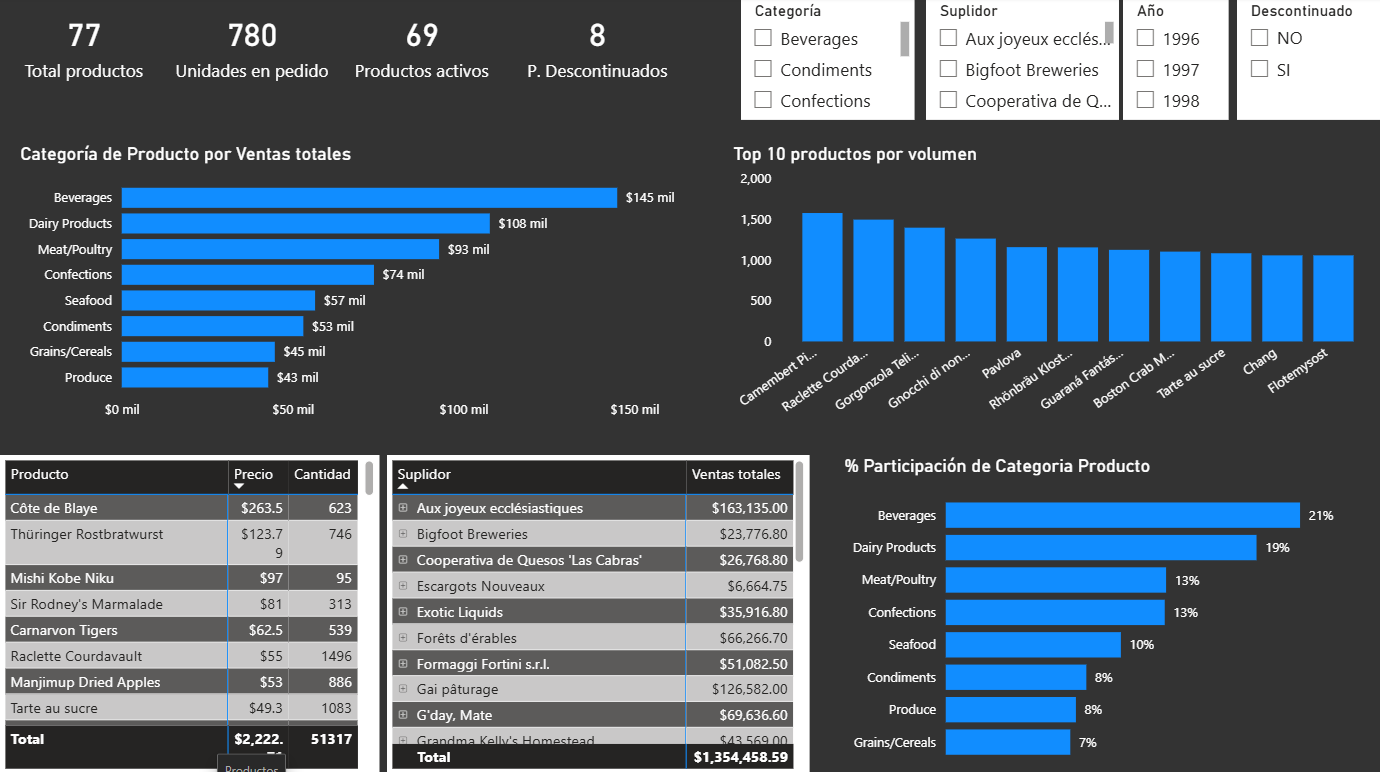

The page's visual inventory and layout, read from the dashboard file:
{"tool":"powerbi","page":{"name":"Productos","canvas":[1280,720],"ordinal":1},"visuals":[{"type":"slicer","fields":{"Values":["DimProduct.CategoriaProducto"]},"box":[687.4,0,161.4,114.3],"z":0},{"type":"card","fields":{"Values":["DimProduct.UnidadesEnPedido1"]},"box":[154.2,0,159.6,88],"z":1000},{"type":"card","fields":{"Values":["DimProduct.Total productos"]},"box":[13.6,0,127.9,88],"z":2000},{"type":"card","fields":{"Values":["DimProduct.ProductosDescontinuados"]},"box":[468.8,0,171.4,88],"z":3000},{"type":"columnChart","title":"Top 10 productos por volumen","fields":{"Category":["DimProduct.Producto"],"Y":["FACTSales.Cantidad total vendida"]},"box":[675.6,135.1,604.8,262.1],"z":4000},{"type":"card","fields":{"Values":["DimProduct.Productos activos"]},"box":[320.1,0,142.4,88],"z":5000},{"type":"clusteredBarChart","title":"Categoría de Producto por Ventas totales","fields":{"Category":["DimProduct.CategoriaProducto"],"Y":["FACTSales.Ventas totales"]},"box":[13.6,135.1,640.5,265.7],"z":6000},{"type":"pivotTable","fields":{"Rows":["DimProduct.Producto"],"Values":["Sum(DimProduct.UnidadPrecio)","Sum(FACTSales.Cantidad)"]},"box":[0,424.4,351.8,295.6],"z":7000},{"type":"slicer","fields":{"Values":["DimSuppliers.Suplidor"]},"box":[858.7,0,178.6,114.3],"z":8000},{"type":"slicer","fields":{"Values":["DimProduct.Descontinuado"]},"box":[1147.1,0,133.3,114.3],"z":9000},{"type":"slicer","fields":{"Values":["DimDate.Año"]},"box":[1041.9,0,97.9,114.3],"z":10000},{"type":"pivotTable","fields":{"Rows":["DimSuppliers.Suplidor","DimProduct.Producto"],"Values":["FACTSales.Ventas totales"]},"box":[359.1,424.4,391.7,295.6],"z":11000},{"type":"clusteredBarChart","title":"% Participación de Categoria Producto","fields":{"Category":["DimProduct.CategoriaProducto"],"Y":["DimProduct.% Participación Categoría"]},"box":[778,424.4,492.4,295.6],"z":12000}]}

Visuals, with their boxes in screenshot pixels (x1, y1, x2, y2), scaled from the page's 1280x720 canvas onto the 1380x772 screenshot:
slicer - DimProduct.CategoriaProducto: (741,0,915,123)
card - DimProduct.UnidadesEnPedido1: (166,0,338,94)
card - DimProduct.Total productos: (15,0,153,94)
card - DimProduct.ProductosDescontinuados: (505,0,690,94)
"Top 10 productos por volumen" columnChart: (728,145,1379,426)
card - DimProduct.Productos activos: (345,0,499,94)
"Categoría de Producto por Ventas totales" clusteredBarChart: (15,145,705,430)
pivotTable - DimProduct.Producto x Sum(DimProduct.UnidadPrecio): (0,455,379,771)
slicer - DimSuppliers.Suplidor: (926,0,1118,123)
slicer - DimProduct.Descontinuado: (1237,0,1379,123)
slicer - DimDate.Año: (1123,0,1229,123)
pivotTable - DimSuppliers.Suplidor x DimProduct.Producto: (387,455,809,771)
"% Participación de Categoria Producto" clusteredBarChart: (839,455,1370,771)
